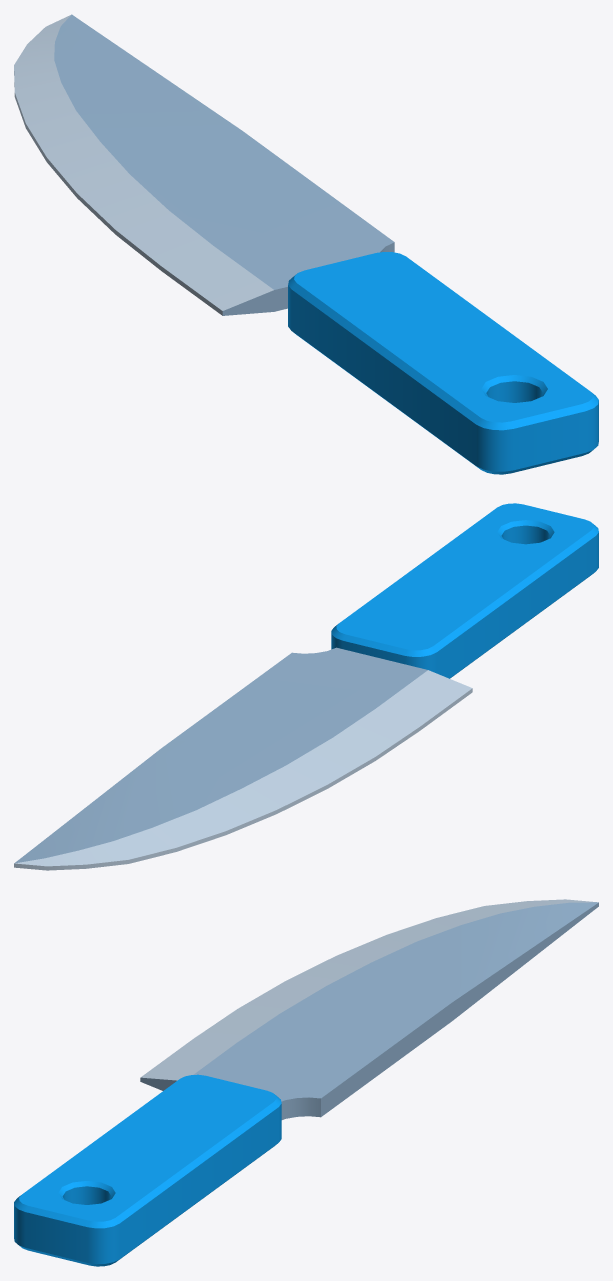
The model's file is KitchenKnife_01.fbx.
3 renders of one model, top to bottom at view 1: azimuth 30°, elevation 25°; view 2: azimuth 150°, elevation 25°; view 3: azimuth 330°, elevation 25°, orthographic. The views are drawn at different scales.
Visible parts, largest first — view 1: KitchenKnife_01; view 2: KitchenKnife_01; view 3: KitchenKnife_01.
Boxes of the visible parts, x1=… form: KitchenKnife_01: x1=14, y1=14, x2=598, y2=474; KitchenKnife_01: x1=14, y1=503, x2=598, y2=870; KitchenKnife_01: x1=14, y1=899, x2=598, y2=1266.
Size of the model in its own units: 0.5285 by 0.1376 by 2.66.
